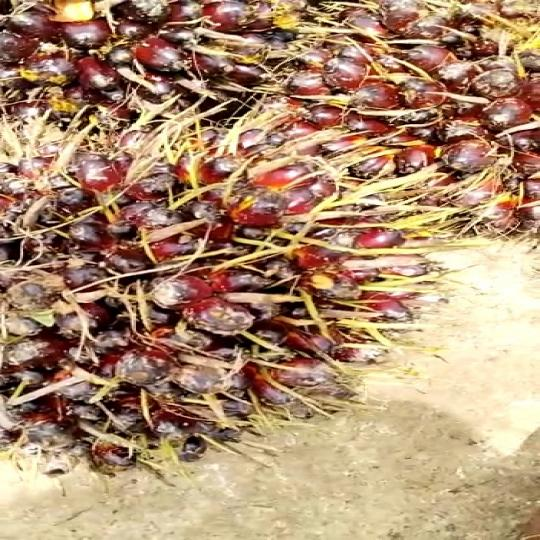kurang masak: (0, 117, 412, 466), (295, 2, 540, 216), (0, 0, 299, 130)
